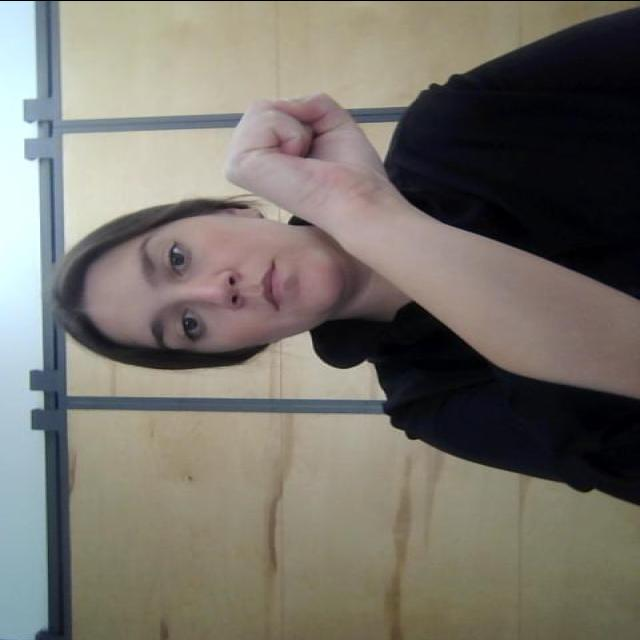Rock: (222, 88, 404, 223)
